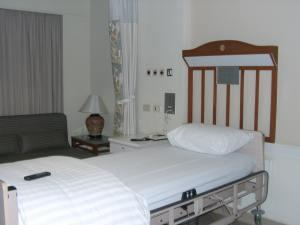Cama: (3, 109, 270, 222)
Ventana: (6, 12, 62, 114)
